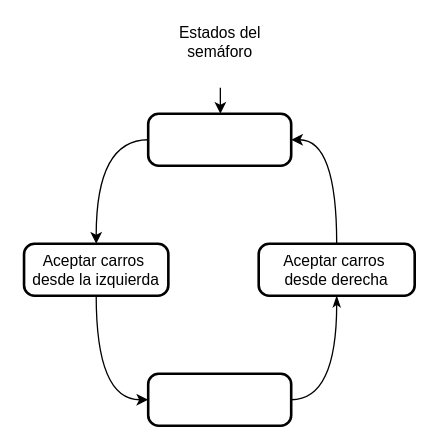
The diagram is 438 pixels wide and 448 high, and some of its shapes have lost their labels. The shapes that lost their labels are listed below. From the top down, each one's centre as x and y in pixels, then its label:
(219,139): Aceptar carros desde abajo
(219,399): Aceptar carros desde arriba
